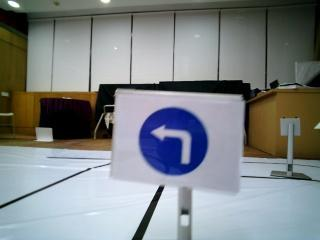left: (119, 93, 233, 182)
